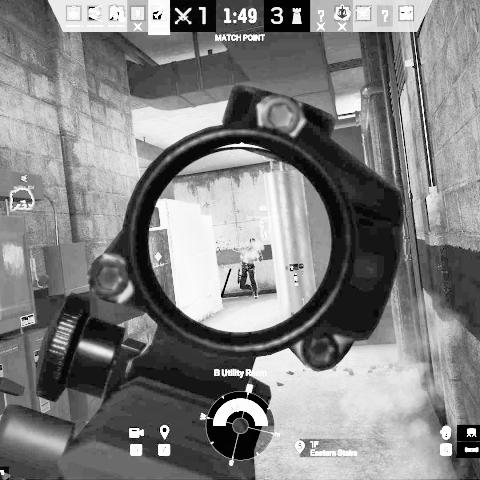Character: (238, 237, 263, 299)
Friend_label: (246, 204, 280, 220), (14, 174, 34, 190)
Head: (248, 238, 256, 247)
